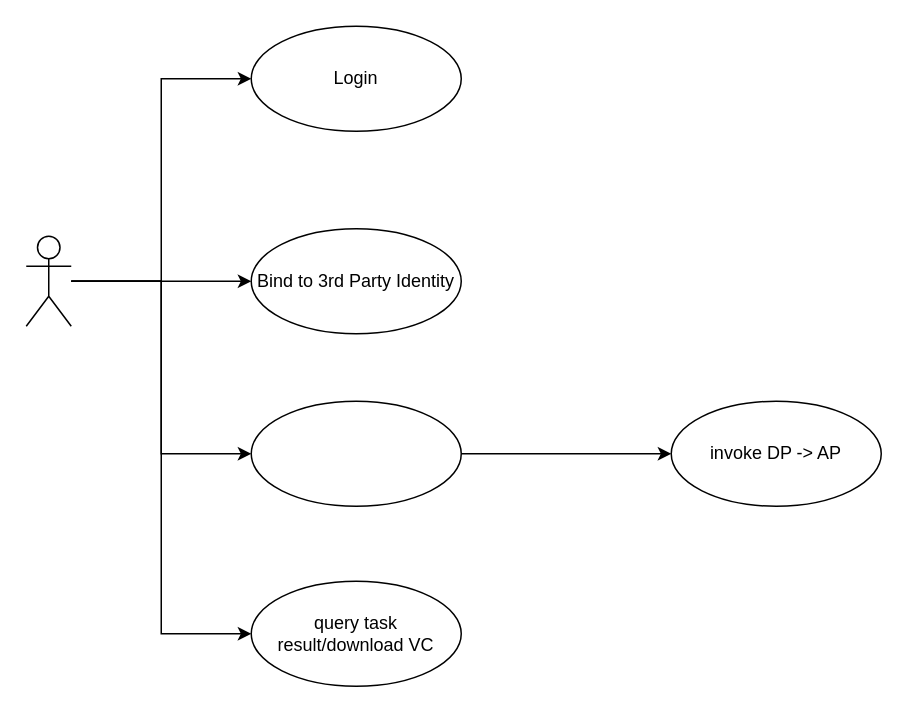
Image size: 908x713. Some labels were removed from this diagram. The centre of each missing label's shape, as x and y in pixels:
add new task: (355,453)
User: (48,280)
